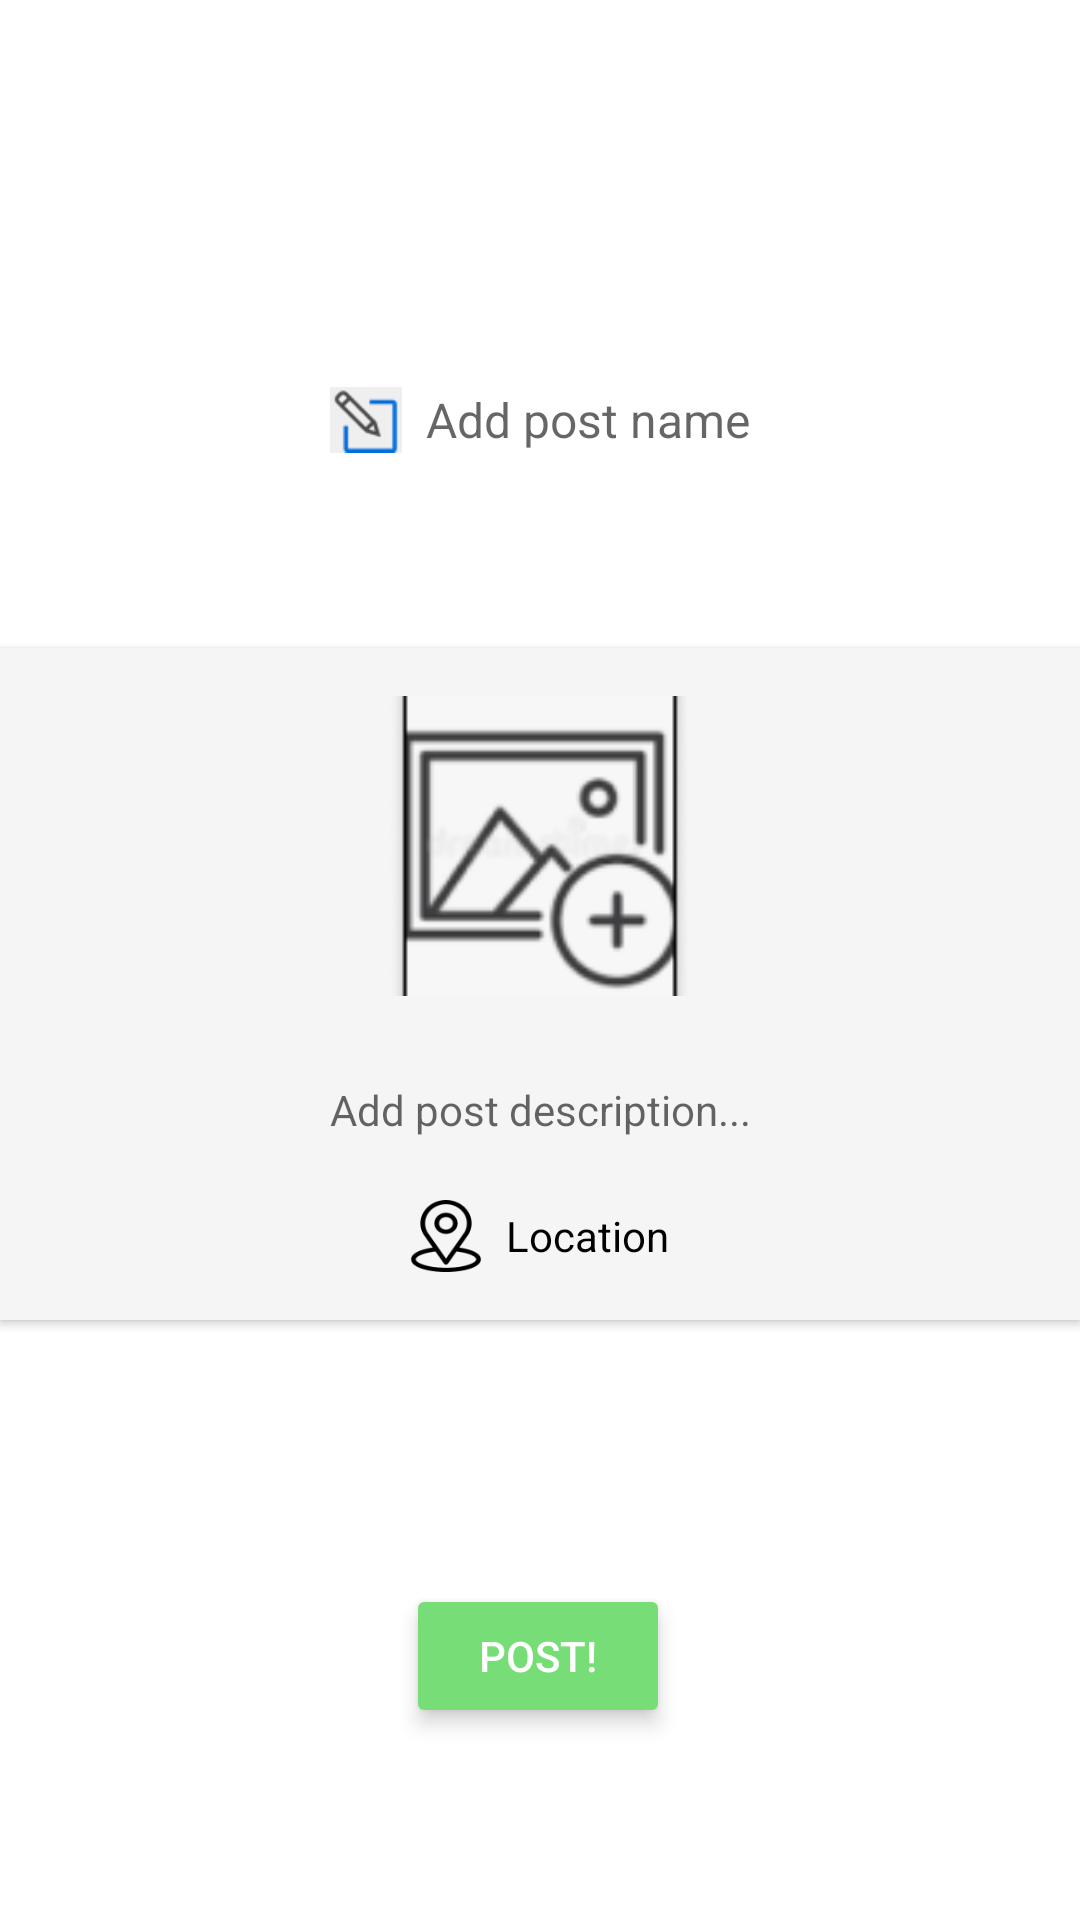

Screen size 1080 x 1920. Icon name, then its box in pixels as rect(x1, y1, x2, y2):
Edit Icon: rect(330, 387, 402, 453)
